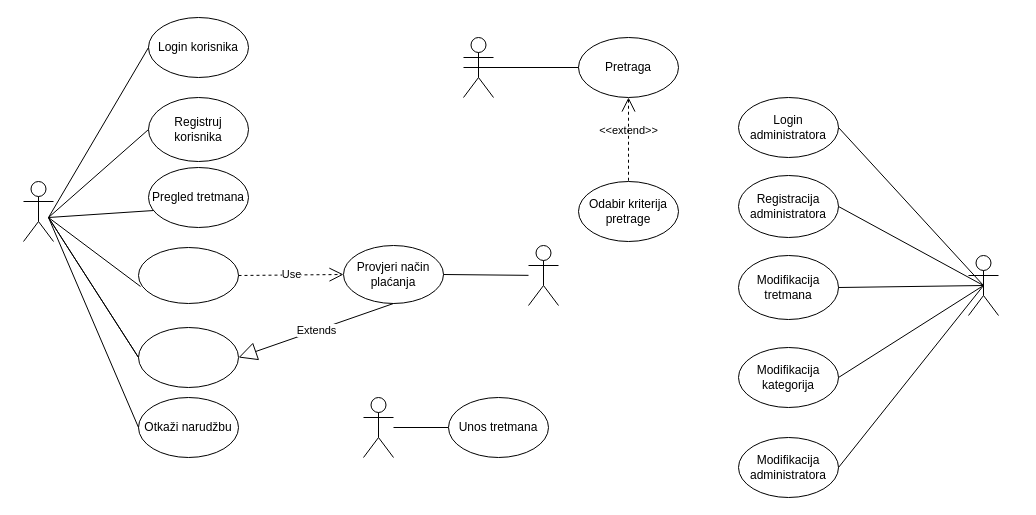
Image size: 1036x515. Some labels were removed from this diagram. The shapes that lost their labels are listed below. From the top down, each one's box as (x1, y1, x2, y2) in pixels, then its label:
(462, 36, 494, 98): Gost
(22, 180, 54, 242): Korisnik
(138, 246, 238, 304): Naruči tretman
(528, 244, 558, 306): Voditelj prodaje
(968, 254, 998, 316): Administrator
(138, 326, 238, 388): Promijeni narudžbu
(362, 396, 394, 458): Moderator
